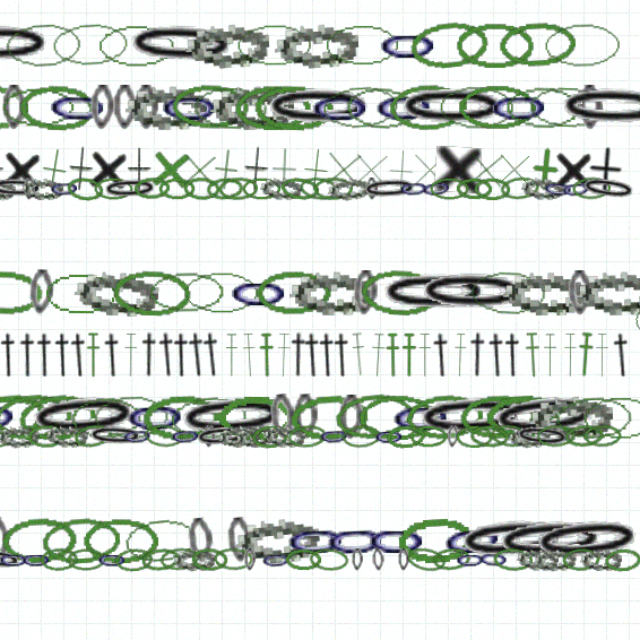chain: (475, 353, 578, 402), (512, 463, 615, 511), (67, 354, 169, 401), (446, 463, 548, 510), (199, 355, 301, 401), (480, 464, 582, 510), (410, 356, 511, 400), (154, 27, 255, 70), (536, 83, 636, 125), (412, 247, 512, 288), (276, 84, 376, 124), (394, 84, 494, 124), (378, 248, 478, 288), (0, 28, 92, 69), (251, 464, 328, 509), (405, 25, 478, 72), (339, 354, 411, 401), (207, 27, 283, 71), (286, 27, 362, 71), (109, 246, 185, 290), (511, 356, 587, 400), (151, 463, 222, 510), (37, 355, 110, 400), (59, 355, 130, 401), (327, 82, 399, 126), (192, 356, 264, 400), (18, 355, 88, 400), (299, 356, 370, 400), (80, 465, 151, 509), (88, 27, 160, 70), (362, 246, 434, 289), (402, 356, 472, 400), (47, 27, 118, 70), (458, 246, 529, 289), (347, 82, 416, 126), (155, 83, 229, 124), (230, 83, 304, 124), (300, 247, 374, 288), (554, 247, 628, 288), (484, 27, 554, 70), (44, 465, 114, 508), (394, 465, 464, 508), (268, 83, 339, 125), (143, 247, 214, 289), (533, 357, 604, 399), (489, 248, 563, 288), (60, 83, 130, 125), (213, 83, 283, 125), (510, 83, 580, 125), (169, 357, 239, 399), (472, 356, 540, 399), (14, 247, 83, 289), (450, 357, 519, 399), (388, 83, 458, 124), (104, 357, 172, 399), (524, 28, 593, 69), (195, 83, 264, 124), (489, 83, 558, 124), (174, 247, 243, 288), (125, 357, 194, 398), (432, 463, 492, 510), (129, 29, 199, 69), (447, 29, 517, 69), (431, 83, 499, 124), (330, 29, 399, 69), (251, 84, 320, 124), (449, 84, 518, 124), (361, 358, 430, 398), (2, 83, 69, 124), (252, 29, 320, 69), (43, 84, 111, 124), (81, 248, 149, 288), (205, 248, 273, 288), (270, 248, 338, 288), (236, 358, 304, 398), (558, 358, 625, 398), (117, 467, 184, 507), (4, 356, 62, 399), (388, 357, 445, 399), (295, 466, 352, 508), (330, 466, 387, 508), (373, 83, 430, 124), (153, 357, 210, 398), (85, 83, 141, 124), (475, 83, 531, 124), (377, 29, 433, 69), (184, 84, 240, 124), (317, 84, 373, 124), (245, 248, 301, 288), (367, 467, 423, 507), (556, 163, 608, 189), (13, 491, 65, 516), (215, 383, 266, 407), (498, 383, 549, 407), (363, 165, 414, 187), (134, 165, 184, 187), (251, 381, 291, 408), (33, 165, 83, 186), (121, 384, 171, 405), (209, 466, 234, 508), (402, 491, 440, 517), (282, 357, 306, 398), (244, 466, 268, 507), (236, 382, 275, 407), (69, 247, 92, 288), (303, 357, 326, 398), (30, 466, 53, 507), (333, 164, 372, 188), (108, 382, 145, 407), (308, 164, 345, 188), (555, 84, 577, 124), (356, 248, 378, 288), (546, 248, 568, 288), (20, 164, 58, 187), (291, 164, 327, 188), (168, 492, 204, 516), (46, 84, 67, 124), (124, 84, 145, 124), (144, 84, 165, 124), (163, 84, 184, 124), (102, 164, 137, 188), (344, 358, 365, 398), (41, 384, 79, 406), (493, 384, 531, 406), (197, 493, 235, 515), (516, 493, 554, 515), (477, 383, 513, 406), (486, 164, 521, 187), (171, 383, 206, 406), (543, 383, 578, 406), (185, 492, 220, 515), (426, 492, 461, 515), (84, 384, 122, 405), (317, 493, 353, 515), (274, 165, 311, 186), (505, 165, 542, 186), (277, 384, 314, 405), (501, 493, 538, 514), (298, 384, 333, 406), (346, 384, 381, 406), (385, 384, 420, 406), (459, 384, 494, 406), (145, 493, 180, 515), (226, 165, 260, 187), (266, 384, 300, 406), (578, 493, 612, 515), (63, 166, 100, 186), (557, 494, 594, 514), (237, 165, 272, 186), (321, 165, 356, 186), (518, 384, 553, 405), (233, 493, 268, 514), (480, 493, 515, 514), (550, 165, 584, 186), (68, 384, 102, 405), (560, 384, 594, 405), (79, 493, 113, 514), (541, 493, 575, 514), (127, 166, 162, 186), (424, 166, 459, 186), (162, 165, 195, 186), (206, 165, 239, 186), (213, 493, 246, 514), (415, 164, 445, 187), (258, 166, 292, 186), (22, 385, 56, 405), (406, 385, 440, 405), (103, 494, 137, 514), (184, 166, 217, 186), (447, 166, 480, 186), (463, 166, 496, 186), (447, 385, 480, 405), (296, 494, 329, 514), (523, 165, 552, 187), (539, 165, 568, 187), (274, 493, 303, 515), (151, 384, 180, 405), (325, 384, 354, 405), (466, 493, 495, 514), (87, 165, 115, 186), (396, 165, 424, 186), (194, 384, 222, 405), (374, 385, 402, 405), (42, 494, 70, 514), (62, 494, 90, 514), (129, 494, 157, 514), (446, 494, 474, 514), (439, 385, 450, 405), (373, 494, 384, 514), (65, 166, 75, 186), (368, 166, 378, 186), (224, 385, 234, 405), (260, 494, 270, 514), (355, 494, 365, 514), (396, 494, 406, 514)
half_double: (206, 302, 231, 343), (219, 302, 244, 343), (454, 302, 479, 343), (164, 302, 188, 343), (180, 302, 204, 343), (296, 302, 320, 343), (25, 303, 49, 343), (102, 303, 126, 343), (582, 303, 606, 343), (40, 303, 63, 343), (57, 303, 80, 343), (72, 303, 95, 343), (88, 303, 111, 343), (132, 303, 155, 343), (193, 303, 216, 343), (309, 303, 332, 343), (322, 303, 345, 343), (335, 303, 358, 343), (423, 303, 446, 343), (472, 303, 495, 343), (486, 303, 509, 343), (352, 302, 370, 343), (369, 303, 387, 343), (506, 303, 524, 343), (553, 302, 570, 343), (256, 303, 273, 343), (286, 303, 303, 343), (443, 303, 459, 343), (540, 303, 556, 343), (119, 303, 134, 343), (152, 303, 167, 343), (241, 303, 256, 343), (272, 303, 287, 343), (384, 303, 399, 343), (398, 303, 413, 343), (412, 303, 427, 343), (523, 303, 538, 343), (569, 303, 584, 343)
noise: (603, 277, 633, 307), (0, 360, 18, 388), (609, 112, 622, 125)
single: (69, 136, 114, 181), (222, 137, 266, 181), (301, 137, 345, 181), (173, 137, 216, 180), (326, 137, 369, 180), (452, 137, 495, 180), (505, 137, 548, 180), (199, 138, 241, 180), (351, 138, 393, 180), (377, 138, 419, 180), (428, 138, 470, 180), (120, 137, 160, 180), (275, 138, 316, 179), (478, 138, 519, 179), (44, 138, 83, 180), (404, 139, 444, 179), (533, 139, 570, 179), (562, 138, 596, 180), (25, 138, 49, 179), (104, 138, 128, 179), (259, 138, 283, 179), (157, 139, 178, 179)
